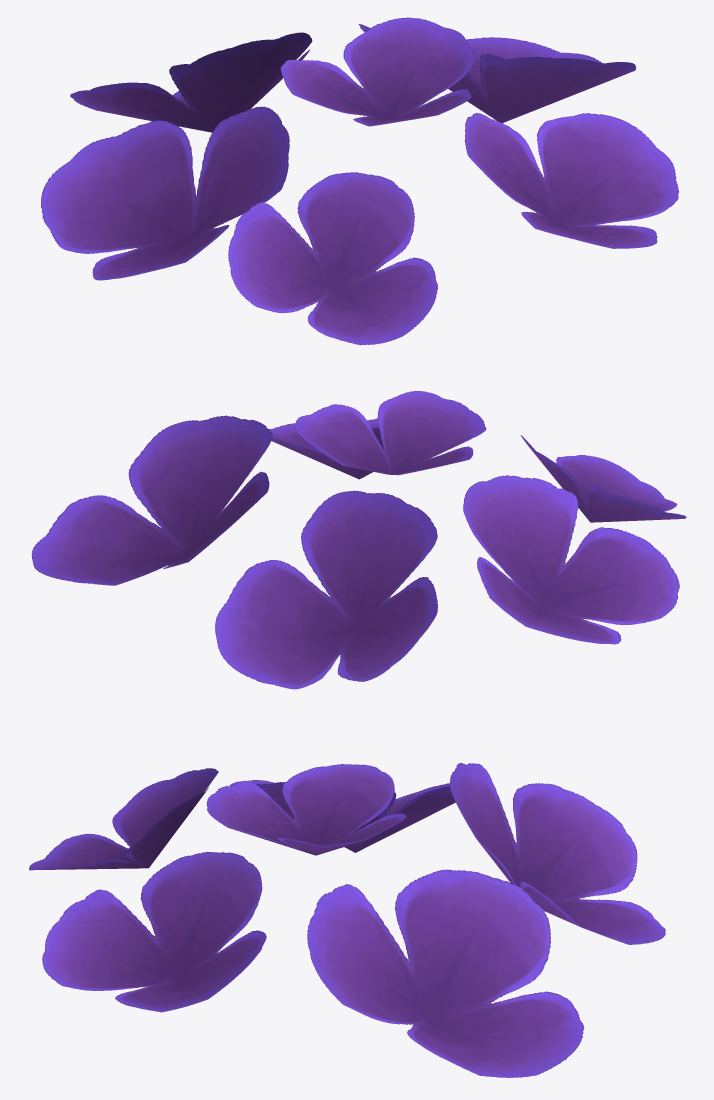
The model's file is Plant_7.glb.
The picture shows the model from 3 angles, top to bottom: view 1: azimuth 30°, elevation 25°; view 2: azimuth 150°, elevation 25°; view 3: azimuth 270°, elevation 25°; orthographic projection. The views are drawn at different scales.
Visible parts, largest first — view 1: Plant_7; view 2: Plant_7; view 3: Plant_7.
Boxes of the visible parts, x1,y1,x2,y2 form: Plant_7: (41, 17, 678, 345); Plant_7: (31, 391, 686, 689); Plant_7: (29, 763, 665, 1077).
Size of the model in its own units: 1.05 by 0.2495 by 0.9621.
1 material, 1 textured.
